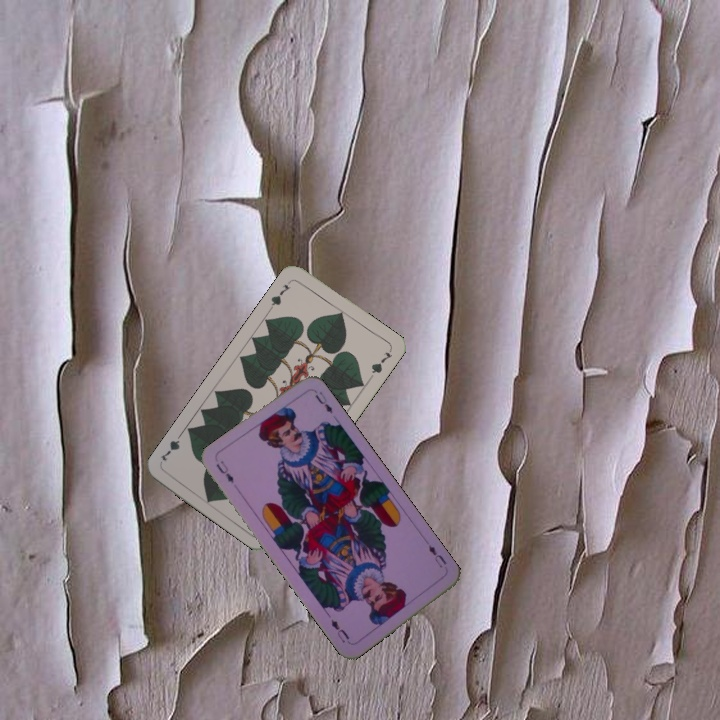EU: (424, 541, 449, 571), (212, 456, 237, 486)
G7: (266, 276, 294, 312)
